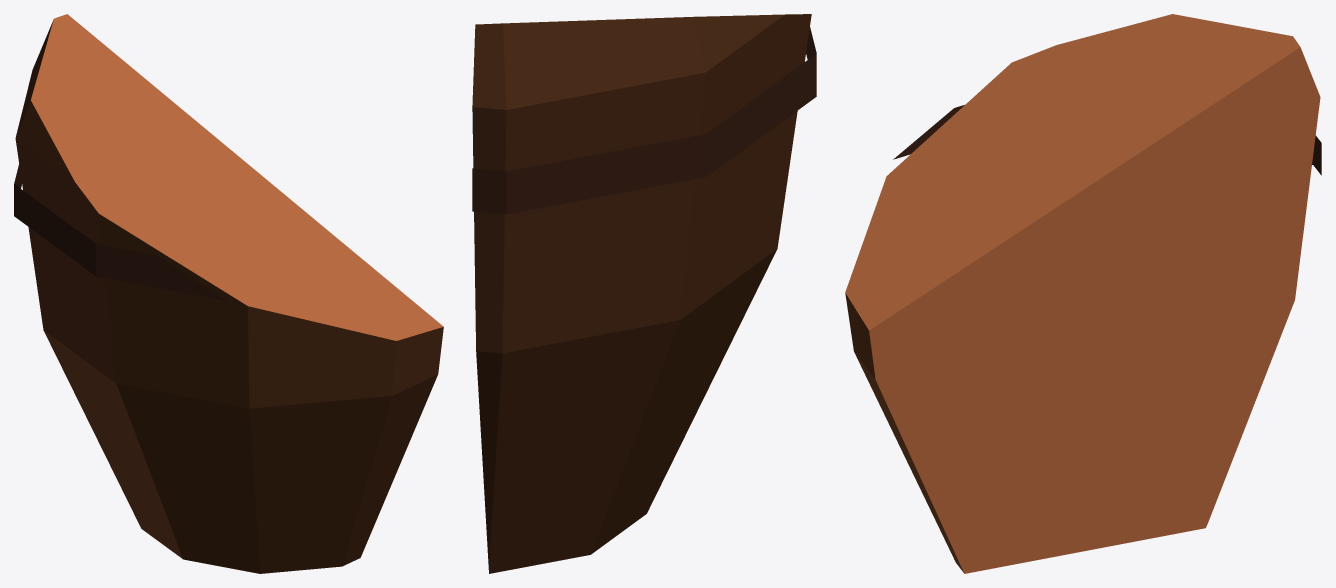
The model's file is jar_01_shard_3.glb.
3 renders of one model, left to right at view 1: azimuth 30°, elevation 25°; view 2: azimuth 150°, elevation 25°; view 3: azimuth 270°, elevation 25°, orthographic. The views are drawn at different scales.
Visible parts, largest first — view 1: jar_01_shard_3; view 2: jar_01_shard_3; view 3: jar_01_shard_3.
Boxes of the visible parts, box(x1,y1,x2,y2) form: jar_01_shard_3: box(14, 14, 443, 573); jar_01_shard_3: box(472, 14, 816, 573); jar_01_shard_3: box(845, 14, 1321, 573).
Size of the model in its own units: 0.4493 by 0.705 by 0.6543.
Materials: 3 (2 with a texture image).
